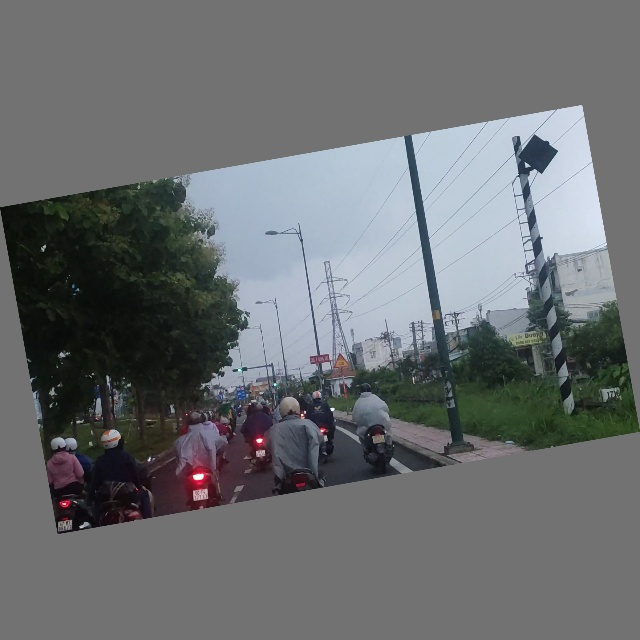W.210: (331, 353, 350, 370)
